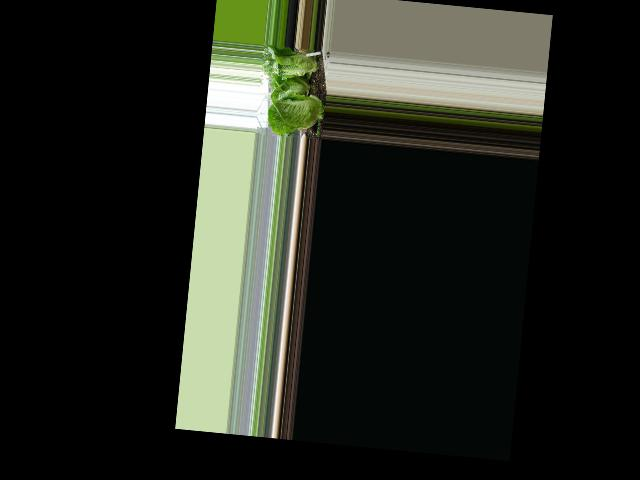lettuce: (266, 48, 325, 83)
